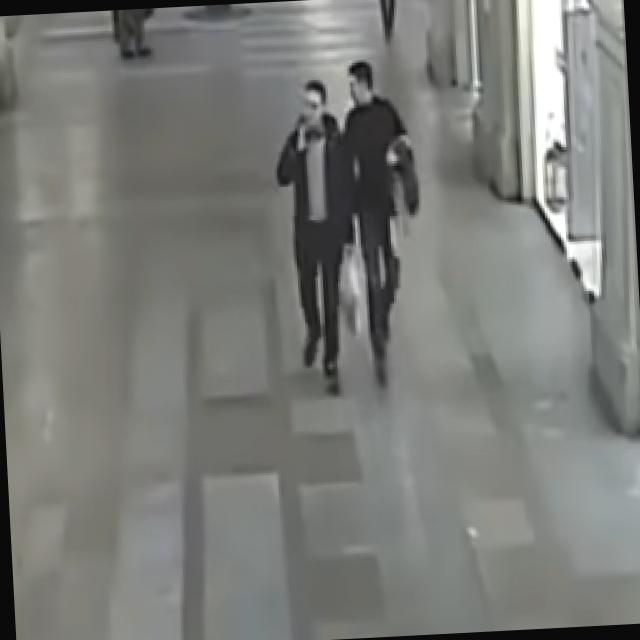person: (270, 78, 366, 387), (334, 60, 427, 361)
